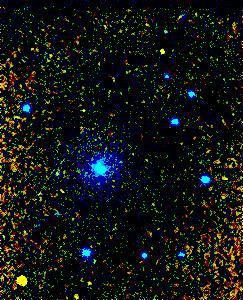star: (7, 263, 37, 293)
